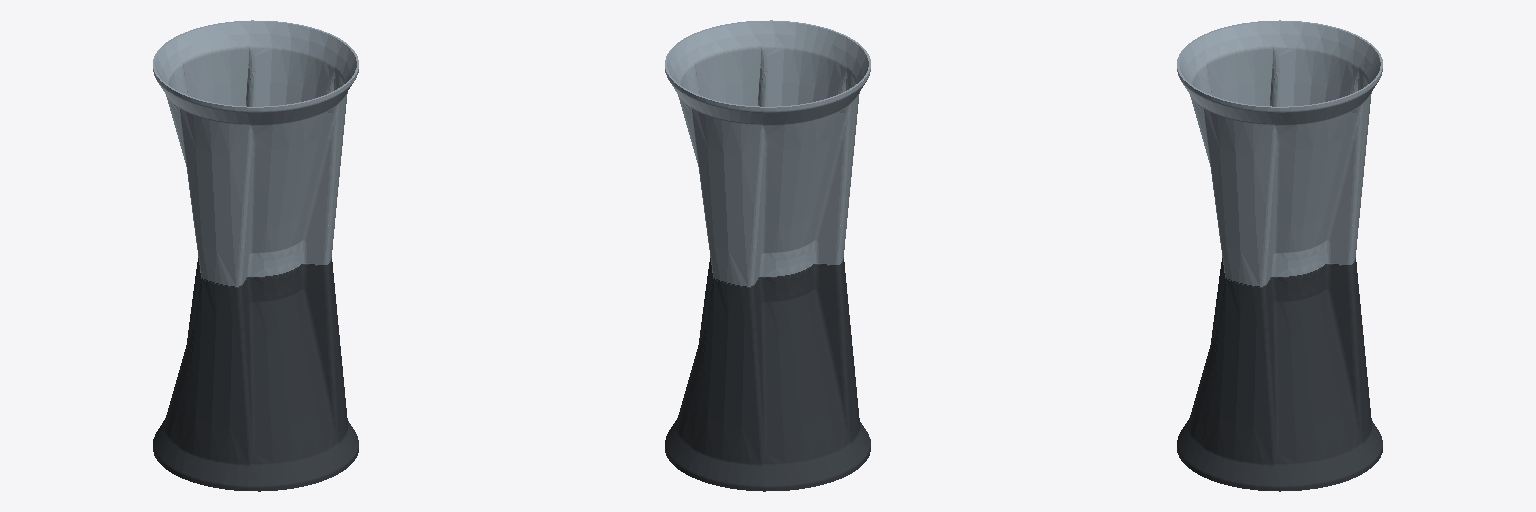
The robot description file, URDF, robot "override_dual_cup":
<?xml version='1.0' encoding='utf-8'?>
<robot name="override_dual_cup">
  <link name="cup">
    <inertial>
      <origin xyz="0 0 .08225" />
      <mass value="0.075" />
      <inertia ixx="0.00019" iyy="0.00019" izz="9e-05" ixy="0" ixz="0" iyz="0" />
    </inertial>
    <visual>
      <geometry>
        <mesh filename="../meshes/override/cup_upper.obj" />
      </geometry>
      <material name=".._meshes_override_cup_upper.obj">
        <color rgba=".63 .68 .72 .42" />
      </material>
    </visual>
    <visual>
      <geometry>
        <mesh filename="../meshes/override/cup_lower.obj" />
      </geometry>
      <material name=".._meshes_override_cup_lower.obj">
        <color rgba=".27 .29 .31 1" />
      </material>
    </visual>
    <collision>
      <geometry>
        <mesh filename="cup_hull_-1_0_0.stl" />
      </geometry>
    </collision>
    <collision>
      <geometry>
        <mesh filename="cup_hull_-1_0_1.stl" />
      </geometry>
    </collision>
    <collision>
      <geometry>
        <mesh filename="cup_hull_-1_0_2.stl" />
      </geometry>
    </collision>
    <collision>
      <geometry>
        <mesh filename="cup_hull_-1_0_3.stl" />
      </geometry>
    </collision>
    <collision>
      <geometry>
        <mesh filename="cup_hull_-1_0_4.stl" />
      </geometry>
    </collision>
    <collision>
      <geometry>
        <mesh filename="cup_hull_-1_0_5.stl" />
      </geometry>
    </collision>
    <collision>
      <geometry>
        <mesh filename="cup_hull_-1_0_6.stl" />
      </geometry>
    </collision>
    <collision>
      <geometry>
        <mesh filename="cup_hull_-1_0_7.stl" />
      </geometry>
    </collision>
    <collision>
      <geometry>
        <mesh filename="cup_hull_-1_0_8.stl" />
      </geometry>
    </collision>
    <collision>
      <geometry>
        <mesh filename="cup_hull_-1_0_9.stl" />
      </geometry>
    </collision>
    <collision>
      <geometry>
        <mesh filename="cup_hull_-1_0_10.stl" />
      </geometry>
    </collision>
    <collision>
      <geometry>
        <mesh filename="cup_hull_-1_0_11.stl" />
      </geometry>
    </collision>
    <collision>
      <geometry>
        <mesh filename="cup_hull_-1_0_12.stl" />
      </geometry>
    </collision>
    <collision>
      <geometry>
        <mesh filename="cup_hull_-1_0_13.stl" />
      </geometry>
    </collision>
    <collision>
      <geometry>
        <mesh filename="cup_hull_-1_0_14.stl" />
      </geometry>
    </collision>
    <collision>
      <geometry>
        <mesh filename="cup_hull_-1_0_15.stl" />
      </geometry>
    </collision>
    <collision>
      <geometry>
        <mesh filename="cup_hull_-1_1_0.stl" />
      </geometry>
    </collision>
    <collision>
      <geometry>
        <mesh filename="cup_hull_-1_1_1.stl" />
      </geometry>
    </collision>
    <collision>
      <geometry>
        <mesh filename="cup_hull_-1_1_2.stl" />
      </geometry>
    </collision>
    <collision>
      <geometry>
        <mesh filename="cup_hull_-1_1_3.stl" />
      </geometry>
    </collision>
    <collision>
      <geometry>
        <mesh filename="cup_hull_-1_1_4.stl" />
      </geometry>
    </collision>
    <collision>
      <geometry>
        <mesh filename="cup_hull_-1_1_5.stl" />
      </geometry>
    </collision>
    <collision>
      <geometry>
        <mesh filename="cup_hull_-1_1_6.stl" />
      </geometry>
    </collision>
    <collision>
      <geometry>
        <mesh filename="cup_hull_-1_1_7.stl" />
      </geometry>
    </collision>
    <collision>
      <geometry>
        <mesh filename="cup_hull_-1_1_8.stl" />
      </geometry>
    </collision>
    <collision>
      <geometry>
        <mesh filename="cup_hull_-1_1_9.stl" />
      </geometry>
    </collision>
    <collision>
      <geometry>
        <mesh filename="cup_hull_-1_1_10.stl" />
      </geometry>
    </collision>
    <collision>
      <geometry>
        <mesh filename="cup_hull_-1_1_11.stl" />
      </geometry>
    </collision>
    <collision>
      <geometry>
        <mesh filename="cup_hull_-1_1_12.stl" />
      </geometry>
    </collision>
    <collision>
      <geometry>
        <mesh filename="cup_hull_-1_1_13.stl" />
      </geometry>
    </collision>
    <collision>
      <geometry>
        <mesh filename="cup_hull_-1_1_14.stl" />
      </geometry>
    </collision>
    <collision>
      <geometry>
        <mesh filename="cup_hull_-1_1_15.stl" />
      </geometry>
    </collision>
    <collision>
      <geometry>
        <mesh filename="cup_hull_1_0_0.stl" />
      </geometry>
    </collision>
    <collision>
      <geometry>
        <mesh filename="cup_hull_1_0_1.stl" />
      </geometry>
    </collision>
    <collision>
      <geometry>
        <mesh filename="cup_hull_1_0_2.stl" />
      </geometry>
    </collision>
    <collision>
      <geometry>
        <mesh filename="cup_hull_1_0_3.stl" />
      </geometry>
    </collision>
    <collision>
      <geometry>
        <mesh filename="cup_hull_1_0_4.stl" />
      </geometry>
    </collision>
    <collision>
      <geometry>
        <mesh filename="cup_hull_1_0_5.stl" />
      </geometry>
    </collision>
    <collision>
      <geometry>
        <mesh filename="cup_hull_1_0_6.stl" />
      </geometry>
    </collision>
    <collision>
      <geometry>
        <mesh filename="cup_hull_1_0_7.stl" />
      </geometry>
    </collision>
    <collision>
      <geometry>
        <mesh filename="cup_hull_1_0_8.stl" />
      </geometry>
    </collision>
    <collision>
      <geometry>
        <mesh filename="cup_hull_1_0_9.stl" />
      </geometry>
    </collision>
    <collision>
      <geometry>
        <mesh filename="cup_hull_1_0_10.stl" />
      </geometry>
    </collision>
    <collision>
      <geometry>
        <mesh filename="cup_hull_1_0_11.stl" />
      </geometry>
    </collision>
    <collision>
      <geometry>
        <mesh filename="cup_hull_1_0_12.stl" />
      </geometry>
    </collision>
    <collision>
      <geometry>
        <mesh filename="cup_hull_1_0_13.stl" />
      </geometry>
    </collision>
    <collision>
      <geometry>
        <mesh filename="cup_hull_1_0_14.stl" />
      </geometry>
    </collision>
    <collision>
      <geometry>
        <mesh filename="cup_hull_1_0_15.stl" />
      </geometry>
    </collision>
    <collision>
      <geometry>
        <mesh filename="cup_hull_1_1_0.stl" />
      </geometry>
    </collision>
    <collision>
      <geometry>
        <mesh filename="cup_hull_1_1_1.stl" />
      </geometry>
    </collision>
    <collision>
      <geometry>
        <mesh filename="cup_hull_1_1_2.stl" />
      </geometry>
    </collision>
    <collision>
      <geometry>
        <mesh filename="cup_hull_1_1_3.stl" />
      </geometry>
    </collision>
    <collision>
      <geometry>
        <mesh filename="cup_hull_1_1_4.stl" />
      </geometry>
    </collision>
    <collision>
      <geometry>
        <mesh filename="cup_hull_1_1_5.stl" />
      </geometry>
    </collision>
    <collision>
      <geometry>
        <mesh filename="cup_hull_1_1_6.stl" />
      </geometry>
    </collision>
    <collision>
      <geometry>
        <mesh filename="cup_hull_1_1_7.stl" />
      </geometry>
    </collision>
    <collision>
      <geometry>
        <mesh filename="cup_hull_1_1_8.stl" />
      </geometry>
    </collision>
    <collision>
      <geometry>
        <mesh filename="cup_hull_1_1_9.stl" />
      </geometry>
    </collision>
    <collision>
      <geometry>
        <mesh filename="cup_hull_1_1_10.stl" />
      </geometry>
    </collision>
    <collision>
      <geometry>
        <mesh filename="cup_hull_1_1_11.stl" />
      </geometry>
    </collision>
    <collision>
      <geometry>
        <mesh filename="cup_hull_1_1_12.stl" />
      </geometry>
    </collision>
    <collision>
      <geometry>
        <mesh filename="cup_hull_1_1_13.stl" />
      </geometry>
    </collision>
    <collision>
      <geometry>
        <mesh filename="cup_hull_1_1_14.stl" />
      </geometry>
    </collision>
    <collision>
      <geometry>
        <mesh filename="cup_hull_1_1_15.stl" />
      </geometry>
    </collision>
  </link>
</robot>

--- Render facts (derived) ---
3 views of the same robot in one strip: view 1: azimuth 30°, elevation 25°; view 2: azimuth 150°, elevation 25°; view 3: azimuth 270°, elevation 25° (orthographic).
Model override_dual_cup with 1 links and 0 joints (none), rooted at cup, posed all joints at 0.
Visible links, largest first — view 1: cup; view 2: cup; view 3: cup.
Boxes of the visible links, <box> form: cup: <box>153,20,358,491</box>; cup: <box>665,20,870,491</box>; cup: <box>1177,20,1382,491</box>.
Bounding box of the posed robot: 0.0802 × 0.0802 × 0.1645 m (x, y, z).
2 mesh visuals loaded from 2 distinct referenced files (2 OBJ).
